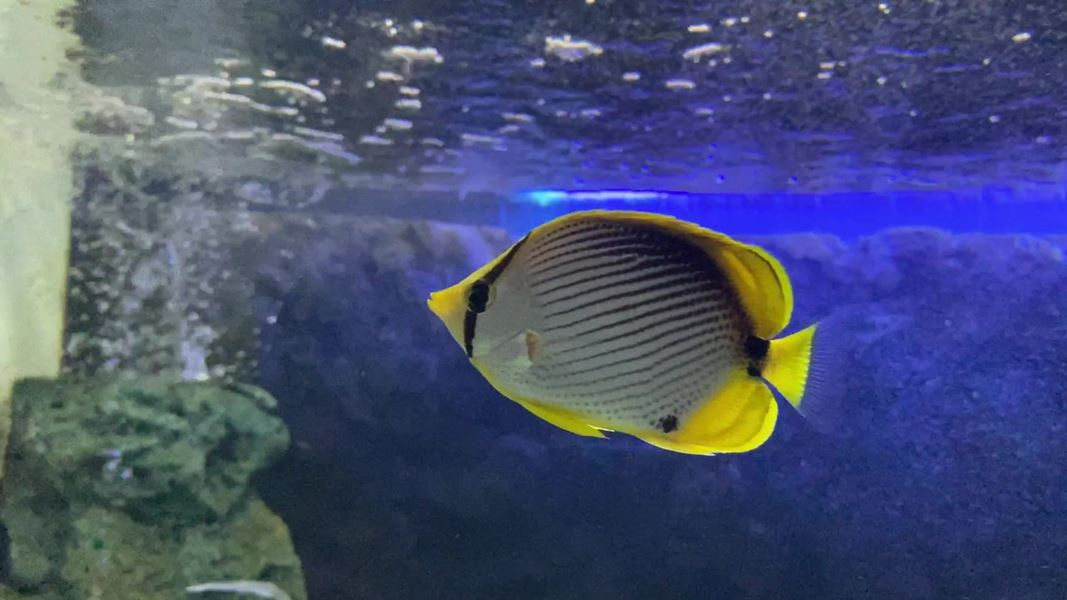Black-backed butterflyfish: (418, 200, 873, 468)
